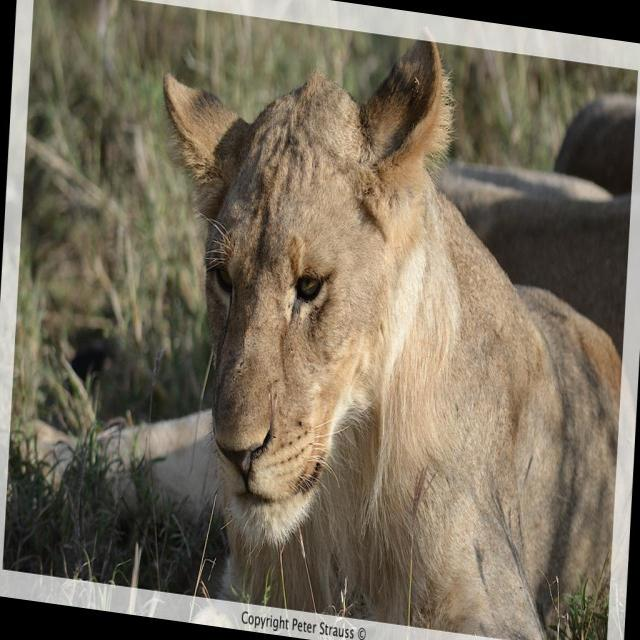Lion: (130, 0, 639, 639)
